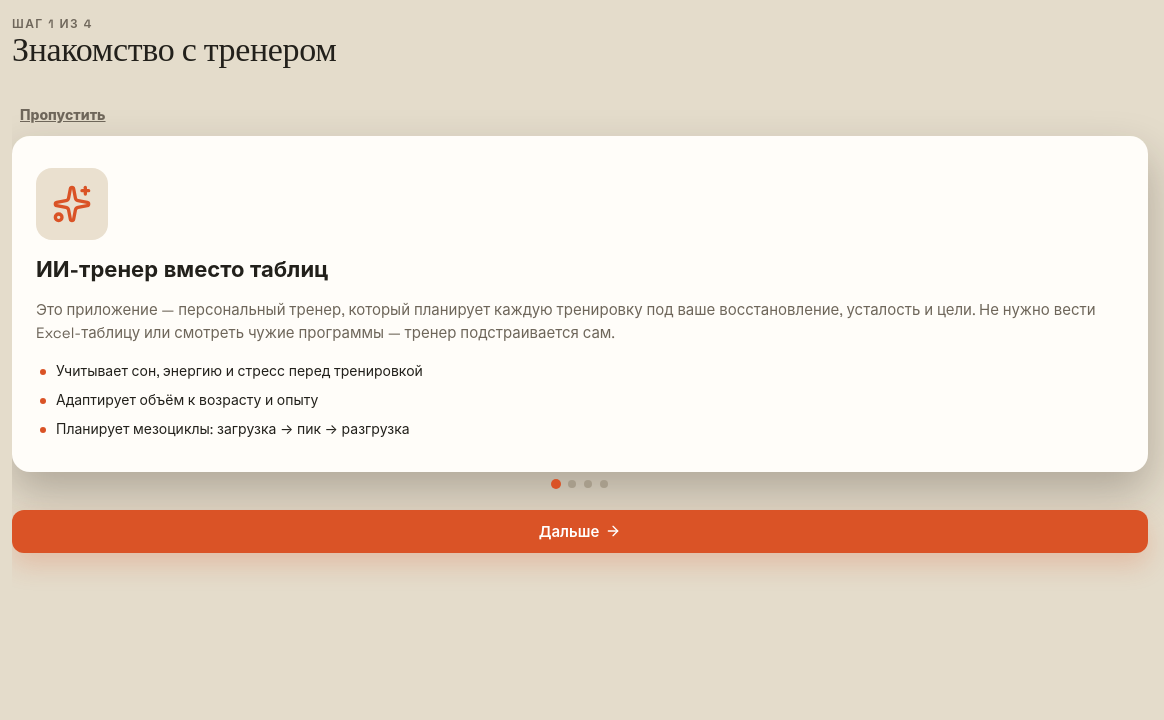
Scenario: OnboardingScreen › navigates forward via the "Дальше" button
Click the button "Дальше" at (580, 531), box [12, 510, 1148, 553]
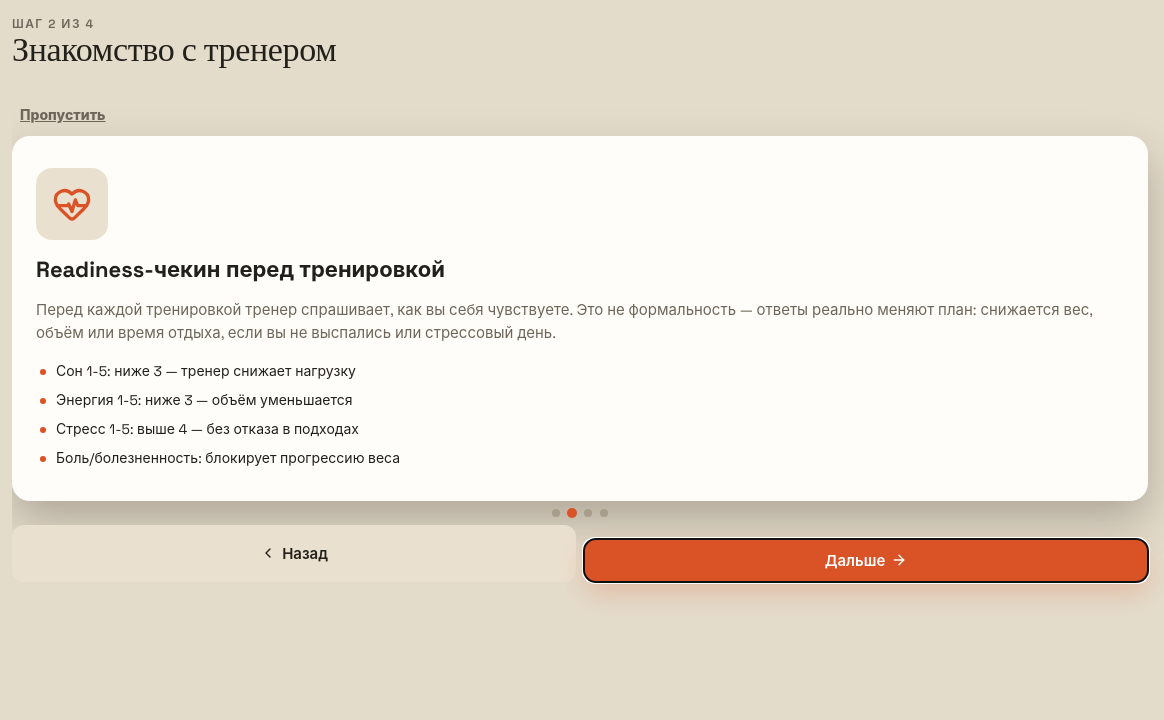
Now the text "Шаг 2 из 4" is shown, box [12, 16, 94, 32]
Now the heading "Readiness-чекин перед тренировкой" is shown, box [36, 255, 445, 283]
